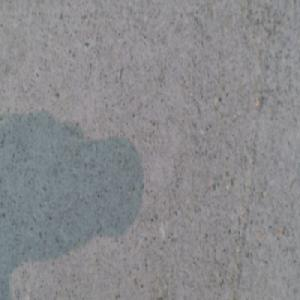Washer: (158, 290, 181, 299)
